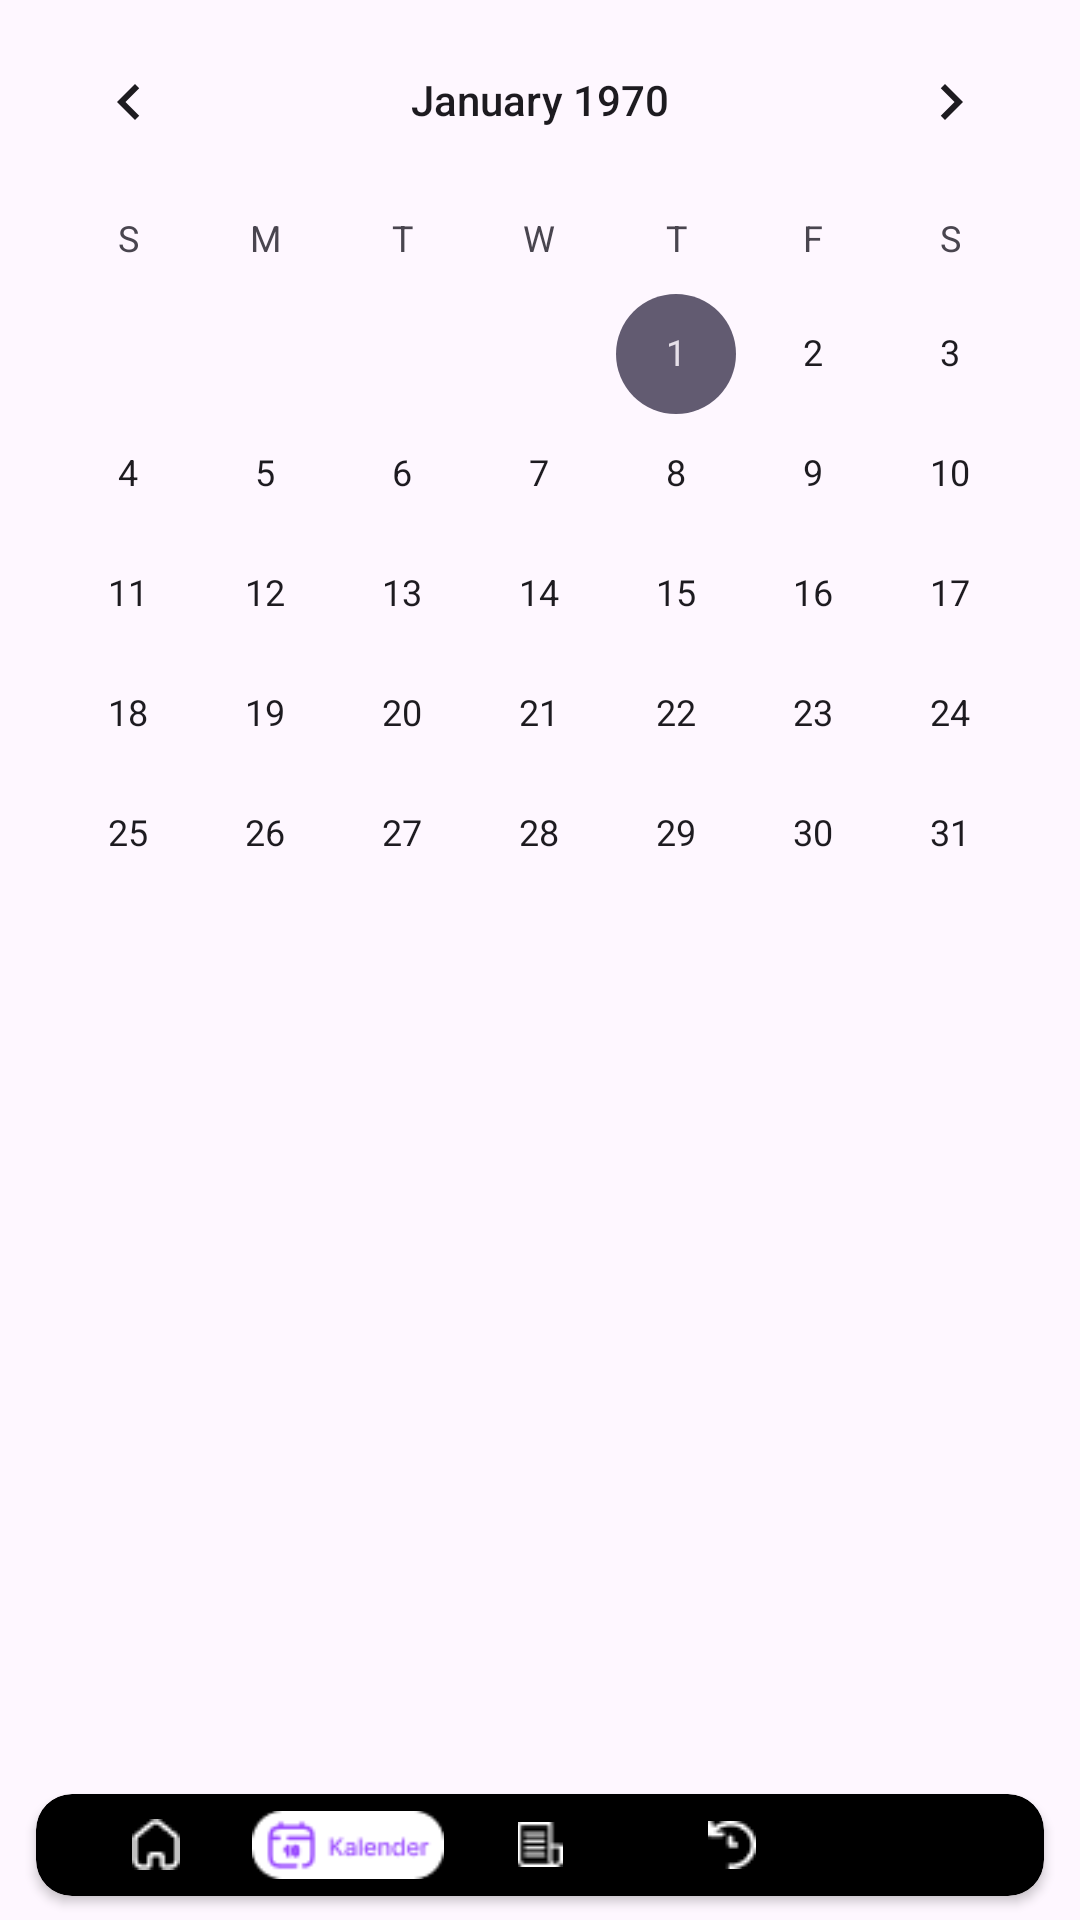

Icons on this 1080px×1920px Android screen, each with the point to tap as point (x, y):
beranda off: point (156, 1844)
history off: point (732, 1845)
ruangan off: point (540, 1844)
